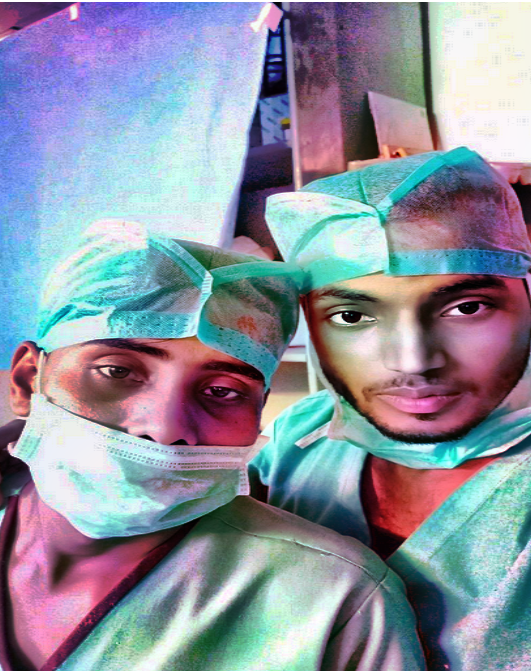mask_weared_incorrect: (20, 216, 302, 543), (271, 151, 530, 449)
